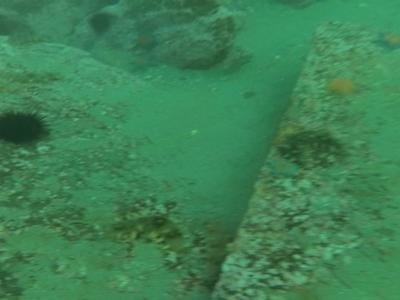holothurian: (109, 212, 188, 255)
urchin: (4, 108, 51, 144), (93, 14, 112, 32)
